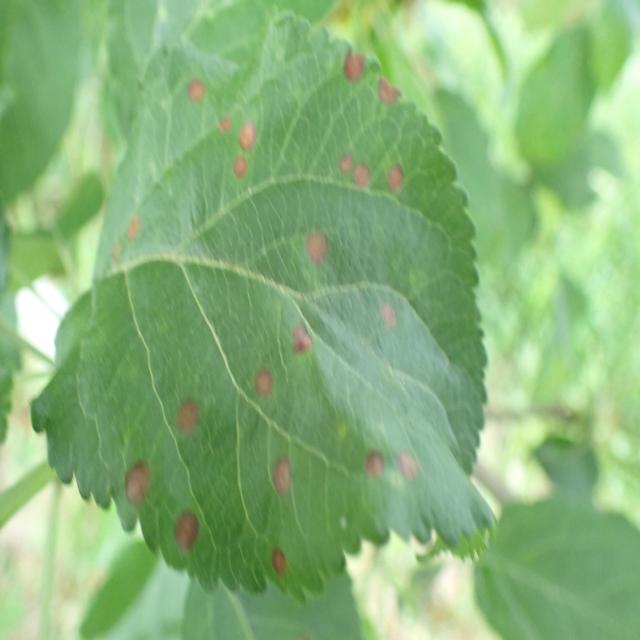Black Rot: (107, 212, 155, 297), (171, 55, 225, 130), (286, 212, 336, 282), (371, 279, 413, 350), (260, 445, 299, 520), (336, 136, 379, 202), (162, 491, 203, 555), (248, 360, 285, 430), (331, 32, 369, 98), (349, 436, 390, 492), (228, 110, 259, 181), (287, 304, 321, 368), (123, 453, 156, 517), (374, 62, 406, 127), (262, 539, 300, 587), (170, 392, 204, 445), (383, 155, 415, 210), (393, 447, 418, 511)
